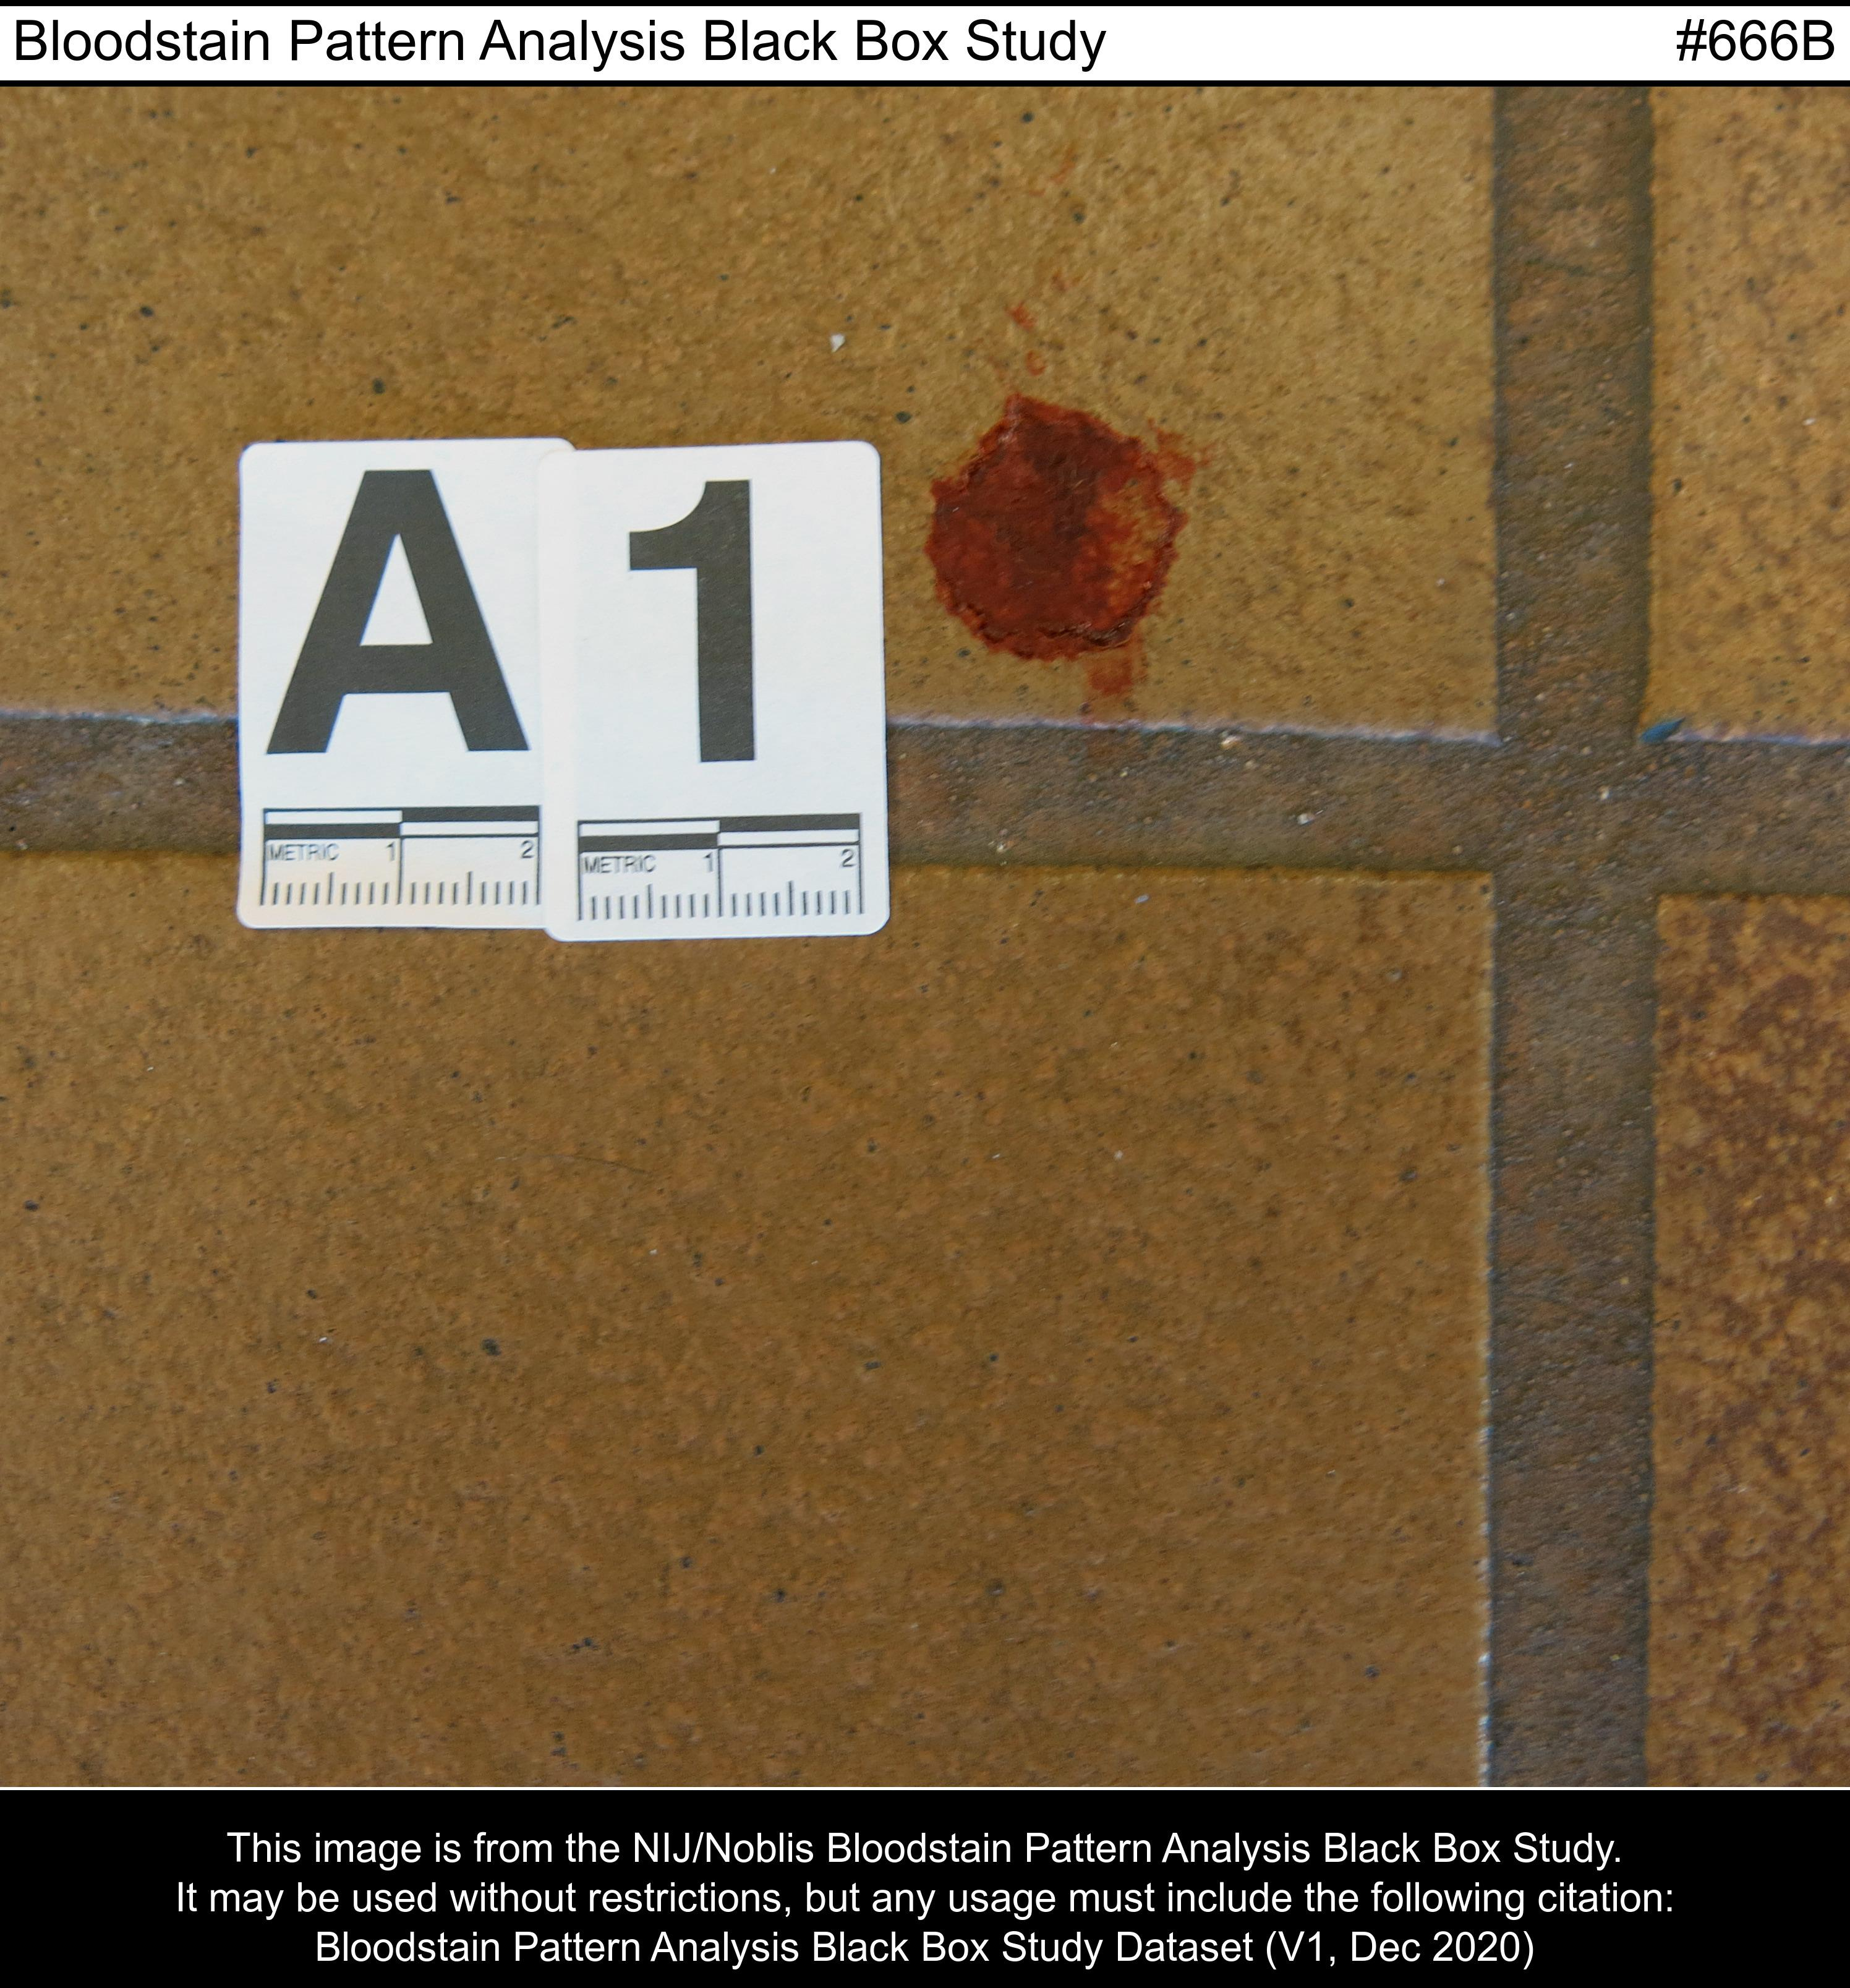Impact: (890, 303, 1243, 748)
